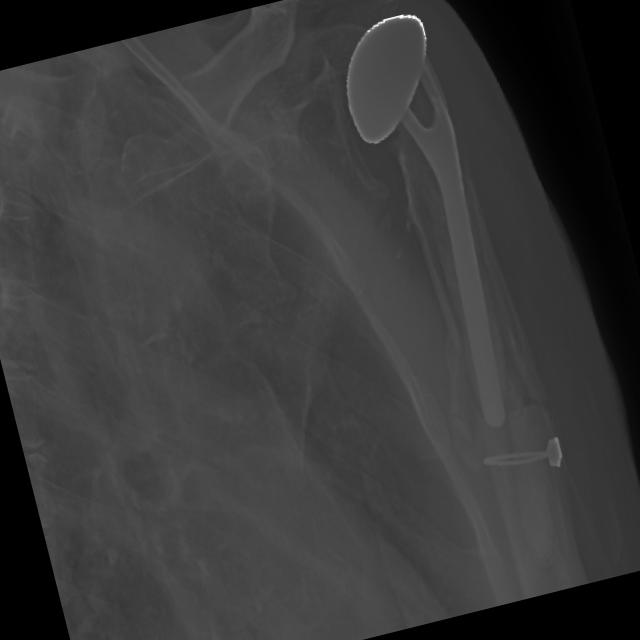shoulder fracture: (496, 348, 574, 440)
